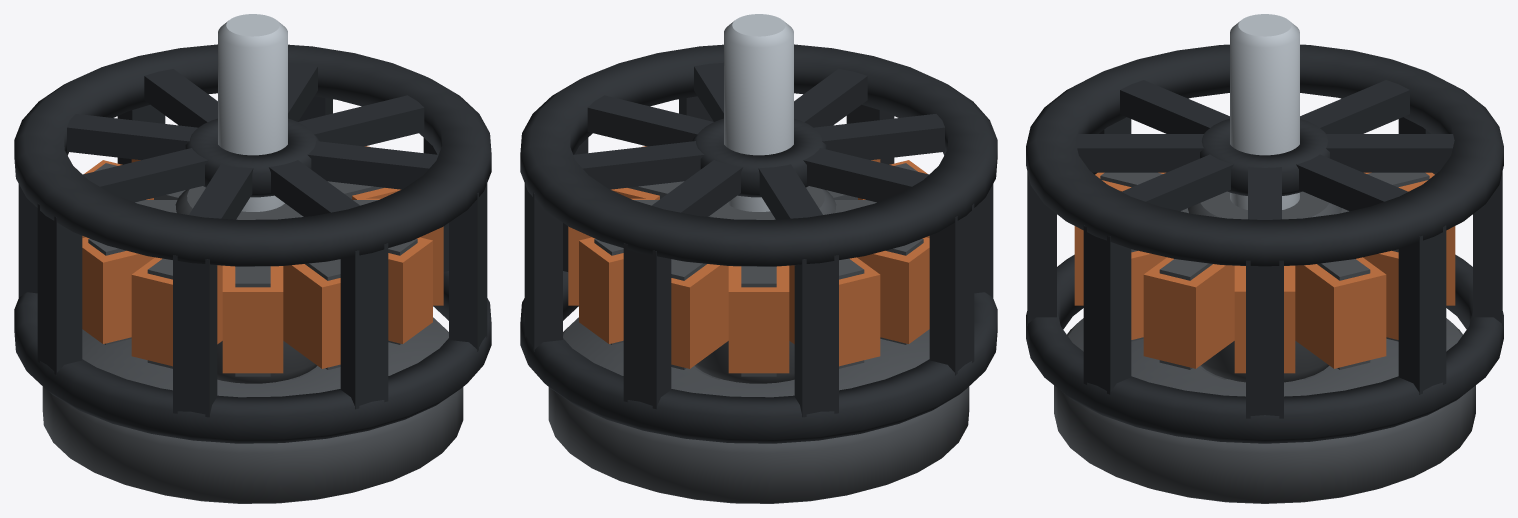
The model's file is small_motor_open.glb.
3 renders of one model, left to right at view 1: azimuth 30°, elevation 25°; view 2: azimuth 150°, elevation 25°; view 3: azimuth 270°, elevation 25°, orthographic.
Parts seen in each view (by area): view 1: SmallMotorOpen_TopRing, SmallMotorOpen_Bell, SmallMotorOpen_Base, SmallMotorOpen_Shaft, SmallMotorOpen_Stator, SmallMotorOpen_Coil_09, SmallMotorOpen_Coil_10, SmallMotorOpen_Coil_07, SmallMotorOpen_Coil_08, SmallMotorOpen_Coil_11, SmallMotorOpen_Coil_12; view 2: SmallMotorOpen_TopRing, SmallMotorOpen_Bell, SmallMotorOpen_Base, SmallMotorOpen_Shaft, SmallMotorOpen_Stator, SmallMotorOpen_Coil_05, SmallMotorOpen_Coil_04, SmallMotorOpen_Coil_07, SmallMotorOpen_Coil_06, SmallMotorOpen_Coil_03, SmallMotorOpen_Coil_02; view 3: SmallMotorOpen_TopRing, SmallMotorOpen_Bell, SmallMotorOpen_Base, SmallMotorOpen_Shaft, SmallMotorOpen_Coil_02, SmallMotorOpen_Coil_12, SmallMotorOpen_Stator, SmallMotorOpen_Coil_01, SmallMotorOpen_Coil_03, SmallMotorOpen_Coil_11, SmallMotorOpen_Coil_04, SmallMotorOpen_Coil_10.
Part boxes in pixels (x1,y1,x2,y2): SmallMotorOpen_TopRing: (14,44,491,266); SmallMotorOpen_Bell: (14,96,491,443); SmallMotorOpen_Base: (42,317,463,503); SmallMotorOpen_Shaft: (218,14,287,211); SmallMotorOpen_Stator: (88,163,417,383); SmallMotorOpen_Coil_09: (222,265,283,373); SmallMotorOpen_Coil_10: (283,264,340,368); SmallMotorOpen_Coil_07: (82,237,154,343); SmallMotorOpen_Coil_08: (131,257,222,366); SmallMotorOpen_Coil_11: (388,237,432,343); SmallMotorOpen_Coil_12: (357,198,443,305); SmallMotorOpen_TopRing: (520,44,997,266); SmallMotorOpen_Bell: (520,96,997,443); SmallMotorOpen_Base: (548,317,969,503); SmallMotorOpen_Shaft: (724,14,793,211); SmallMotorOpen_Stator: (594,163,923,383); SmallMotorOpen_Coil_05: (728,265,789,373); SmallMotorOpen_Coil_04: (671,264,728,368); SmallMotorOpen_Coil_07: (857,237,929,343); SmallMotorOpen_Coil_06: (789,257,880,366); SmallMotorOpen_Coil_03: (579,237,623,343); SmallMotorOpen_Coil_02: (568,198,654,305); SmallMotorOpen_TopRing: (1026,44,1503,266); SmallMotorOpen_Bell: (1026,117,1503,443); SmallMotorOpen_Base: (1054,318,1475,503); SmallMotorOpen_Shaft: (1230,14,1299,209); SmallMotorOpen_Coil_02: (1295,257,1386,368); SmallMotorOpen_Coil_12: (1143,257,1234,368); SmallMotorOpen_Stator: (1100,172,1429,382); SmallMotorOpen_Coil_01: (1234,265,1295,373); SmallMotorOpen_Coil_03: (1363,250,1398,339); SmallMotorOpen_Coil_11: (1131,250,1166,339); SmallMotorOpen_Coil_04: (1446,226,1455,305); SmallMotorOpen_Coil_10: (1074,226,1083,305).
Bounding box in the file's own units: 0.034 × 0.031 × 0.034.
